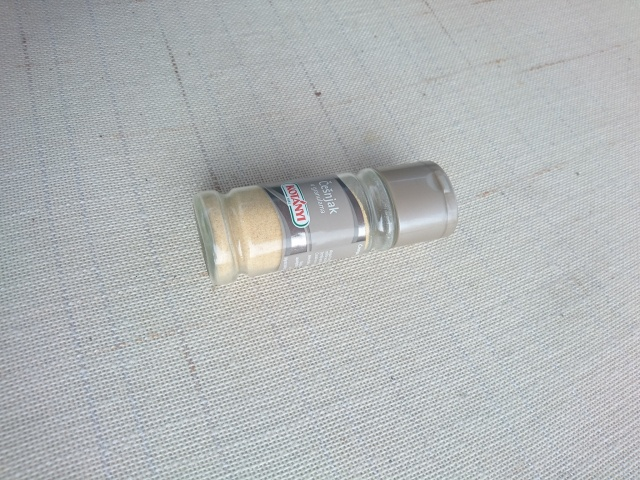Kotanyi Garlic Granules 70g: (188, 157, 461, 290)
